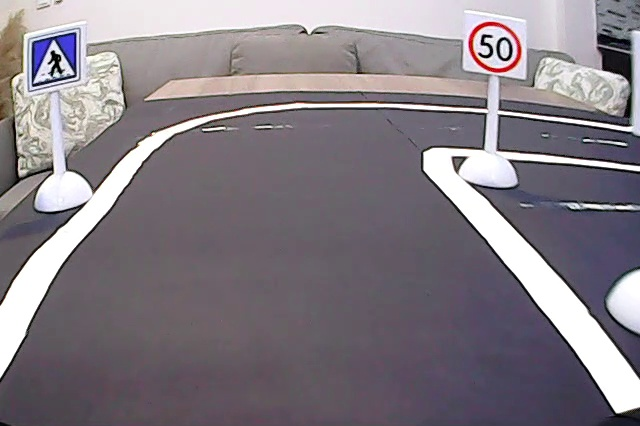pedestrian crossing: (26, 34, 86, 91)
speed limit 50: (469, 18, 520, 73)
